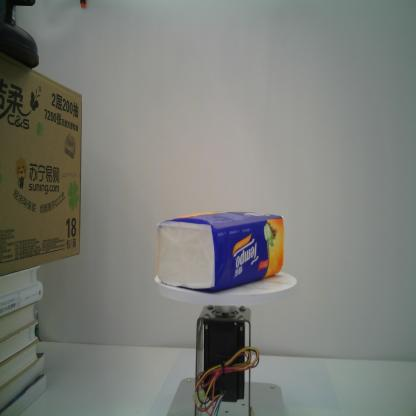Tissue: (156, 210, 285, 292)
